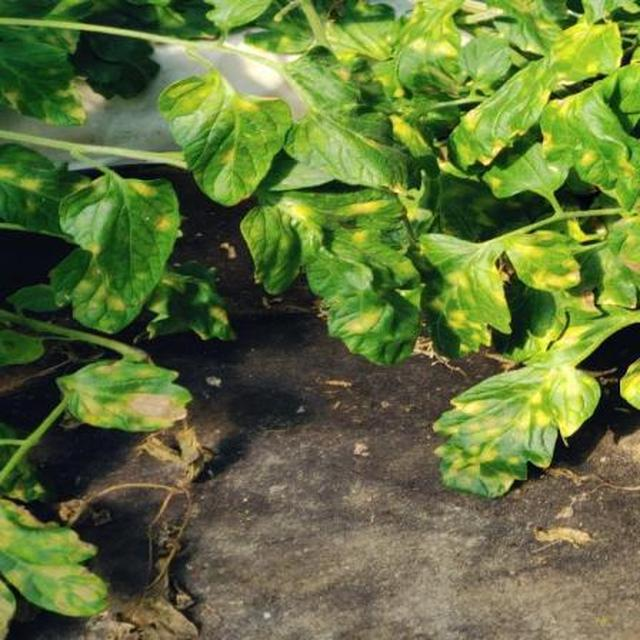Leaf Mold: (62, 92, 640, 640)
